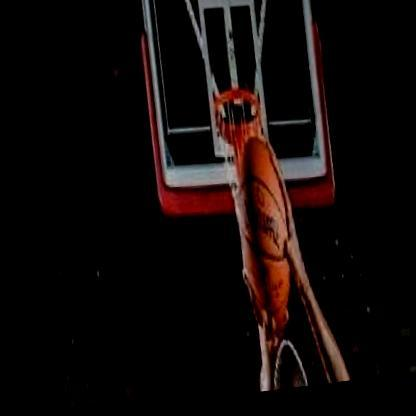basketball: (205, 133, 298, 340)
